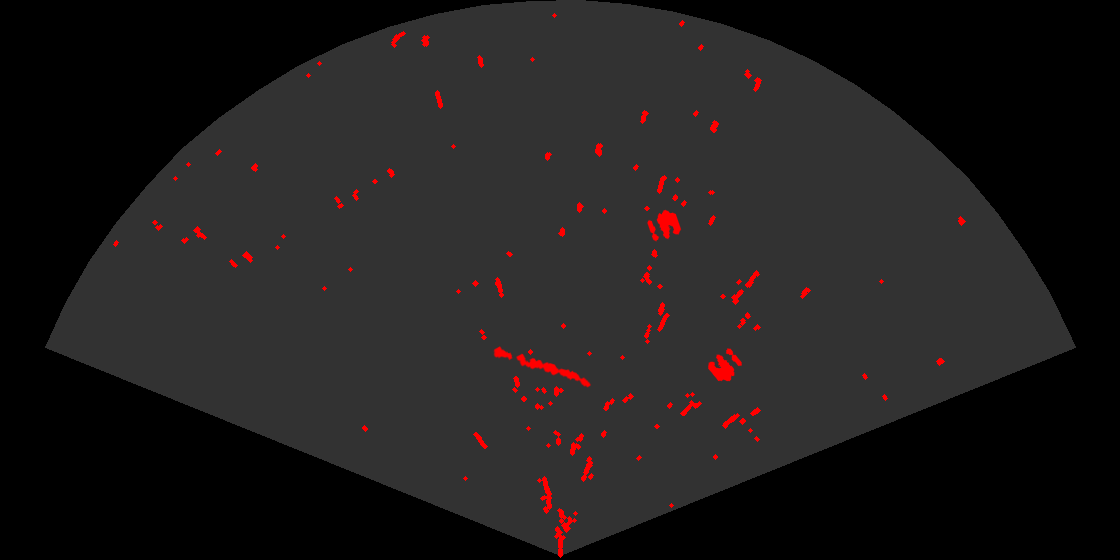ball: (706, 347, 744, 383), (646, 208, 683, 243)
chain: (491, 345, 593, 389)
